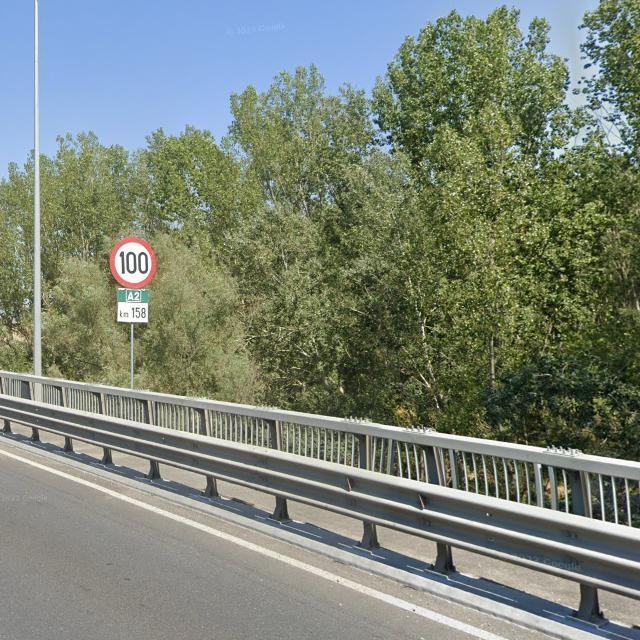forb_speed_over_100: (110, 237, 157, 289)
